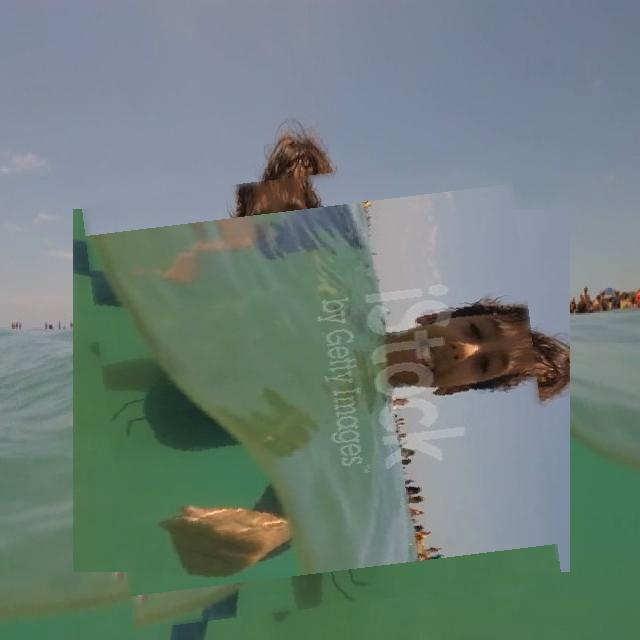drowning: (94, 164, 549, 618)
